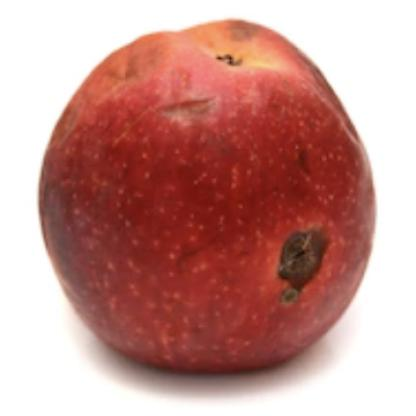Rotten Apple: (40, 20, 374, 374)
